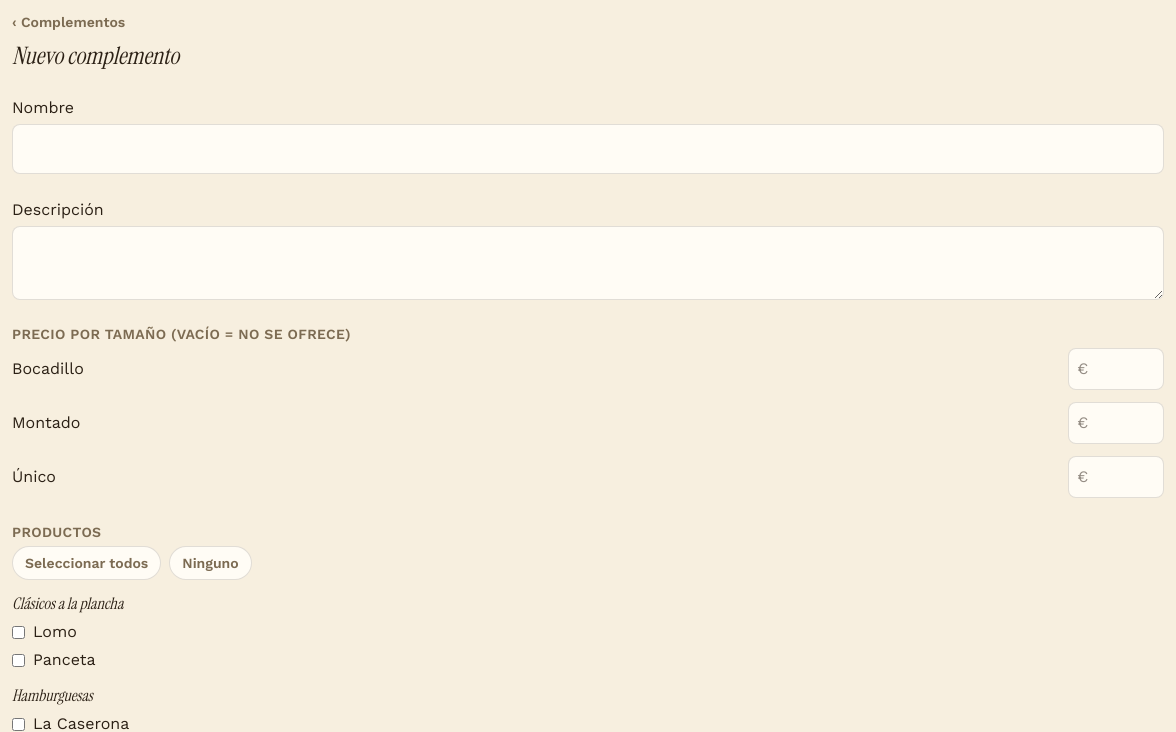
Test case: FormularioComplemento › «Seleccionar todos» marca todos los artículos, y «Ninguno» los desmarca
Click the button "Seleccionar todos". click: (87, 563)
box: [12,546,161,580]
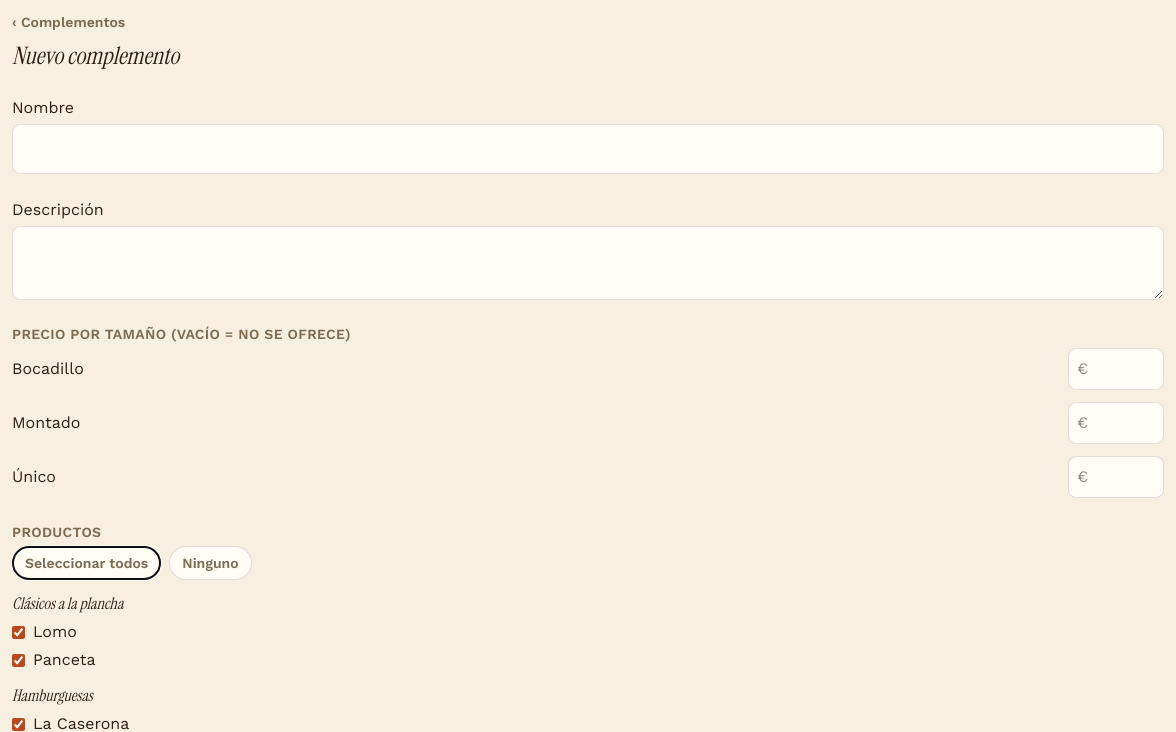
Expected: the checkbox labelled "Lomo" is checked, [12,626,25,638]
Expected: the checkbox labelled "Panceta" is checked, [12,654,25,666]
Expected: the checkbox labelled "La Caserona" is checked, [12,718,25,730]
Click the button "Ninguno". click: (210, 563)
box: [169,546,252,580]
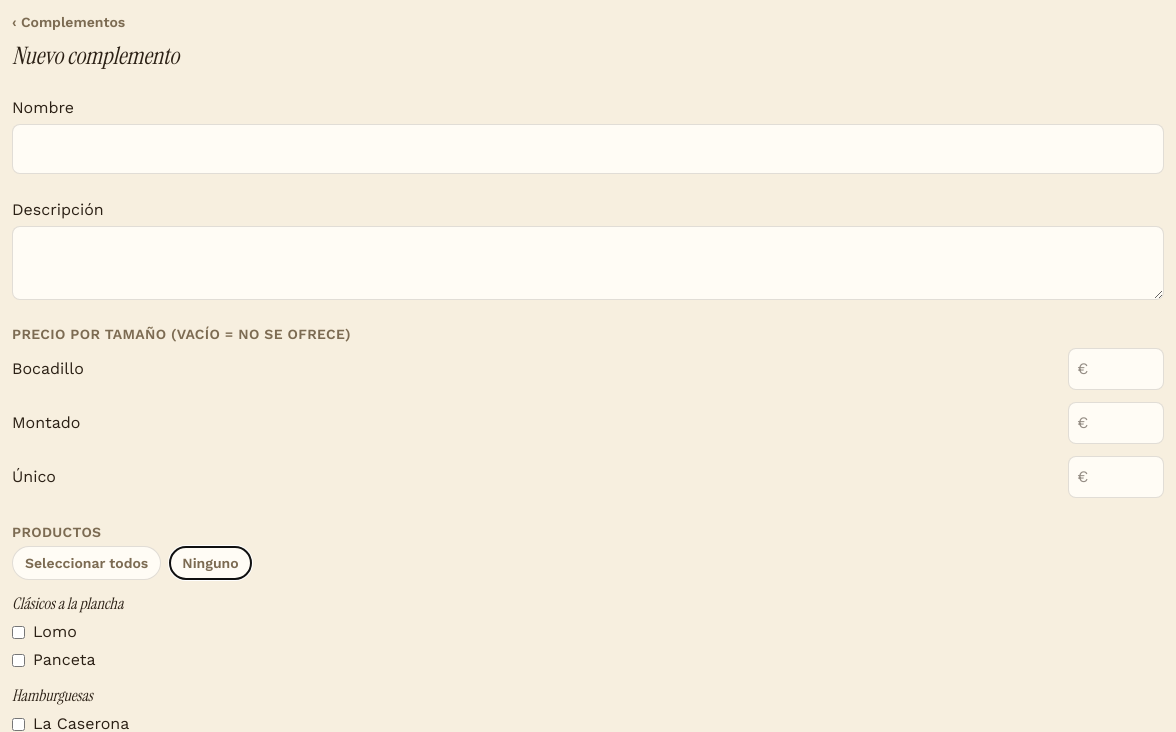
Expected: the checkbox labelled "Lomo" is not checked, [12,626,25,638]
Expected: the checkbox labelled "Panceta" is not checked, [12,654,25,666]
Expected: the checkbox labelled "La Caserona" is not checked, [12,718,25,730]
